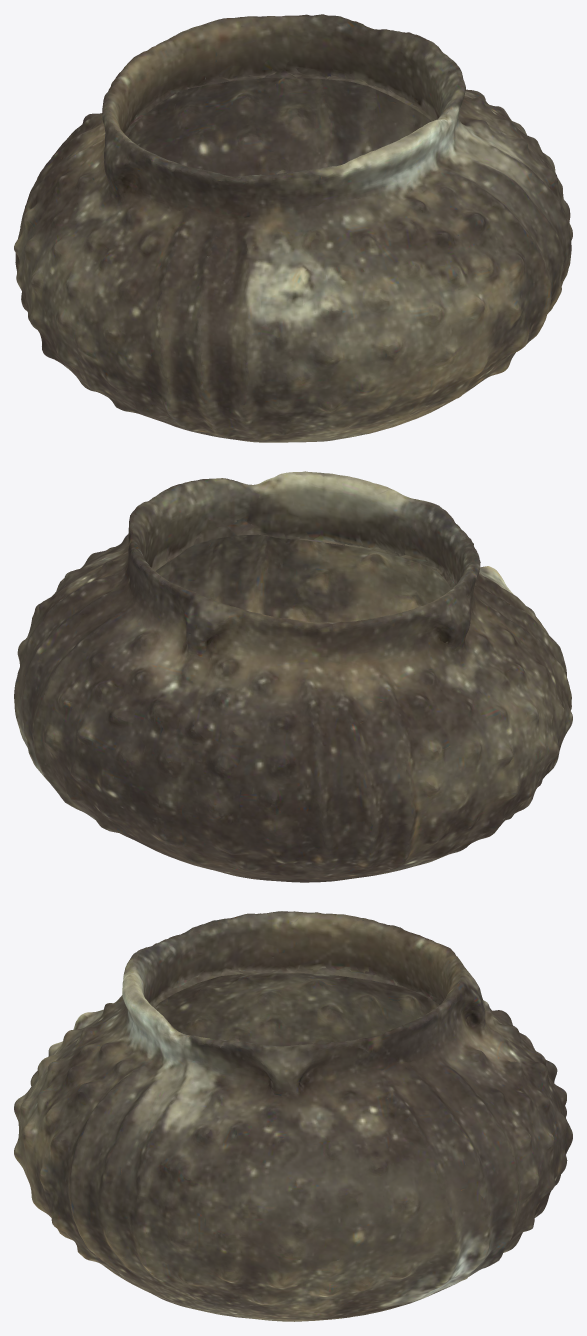
File: Ark_HM_259_HI.glb
3 views of the same model, one above another, from view 1: azimuth 30°, elevation 25°; view 2: azimuth 150°, elevation 25°; view 3: azimuth 270°, elevation 25° (orthographic).
Size of the model in its own units: 0.4969 by 0.3047 by 0.4968.
1 material, 1 textured.
